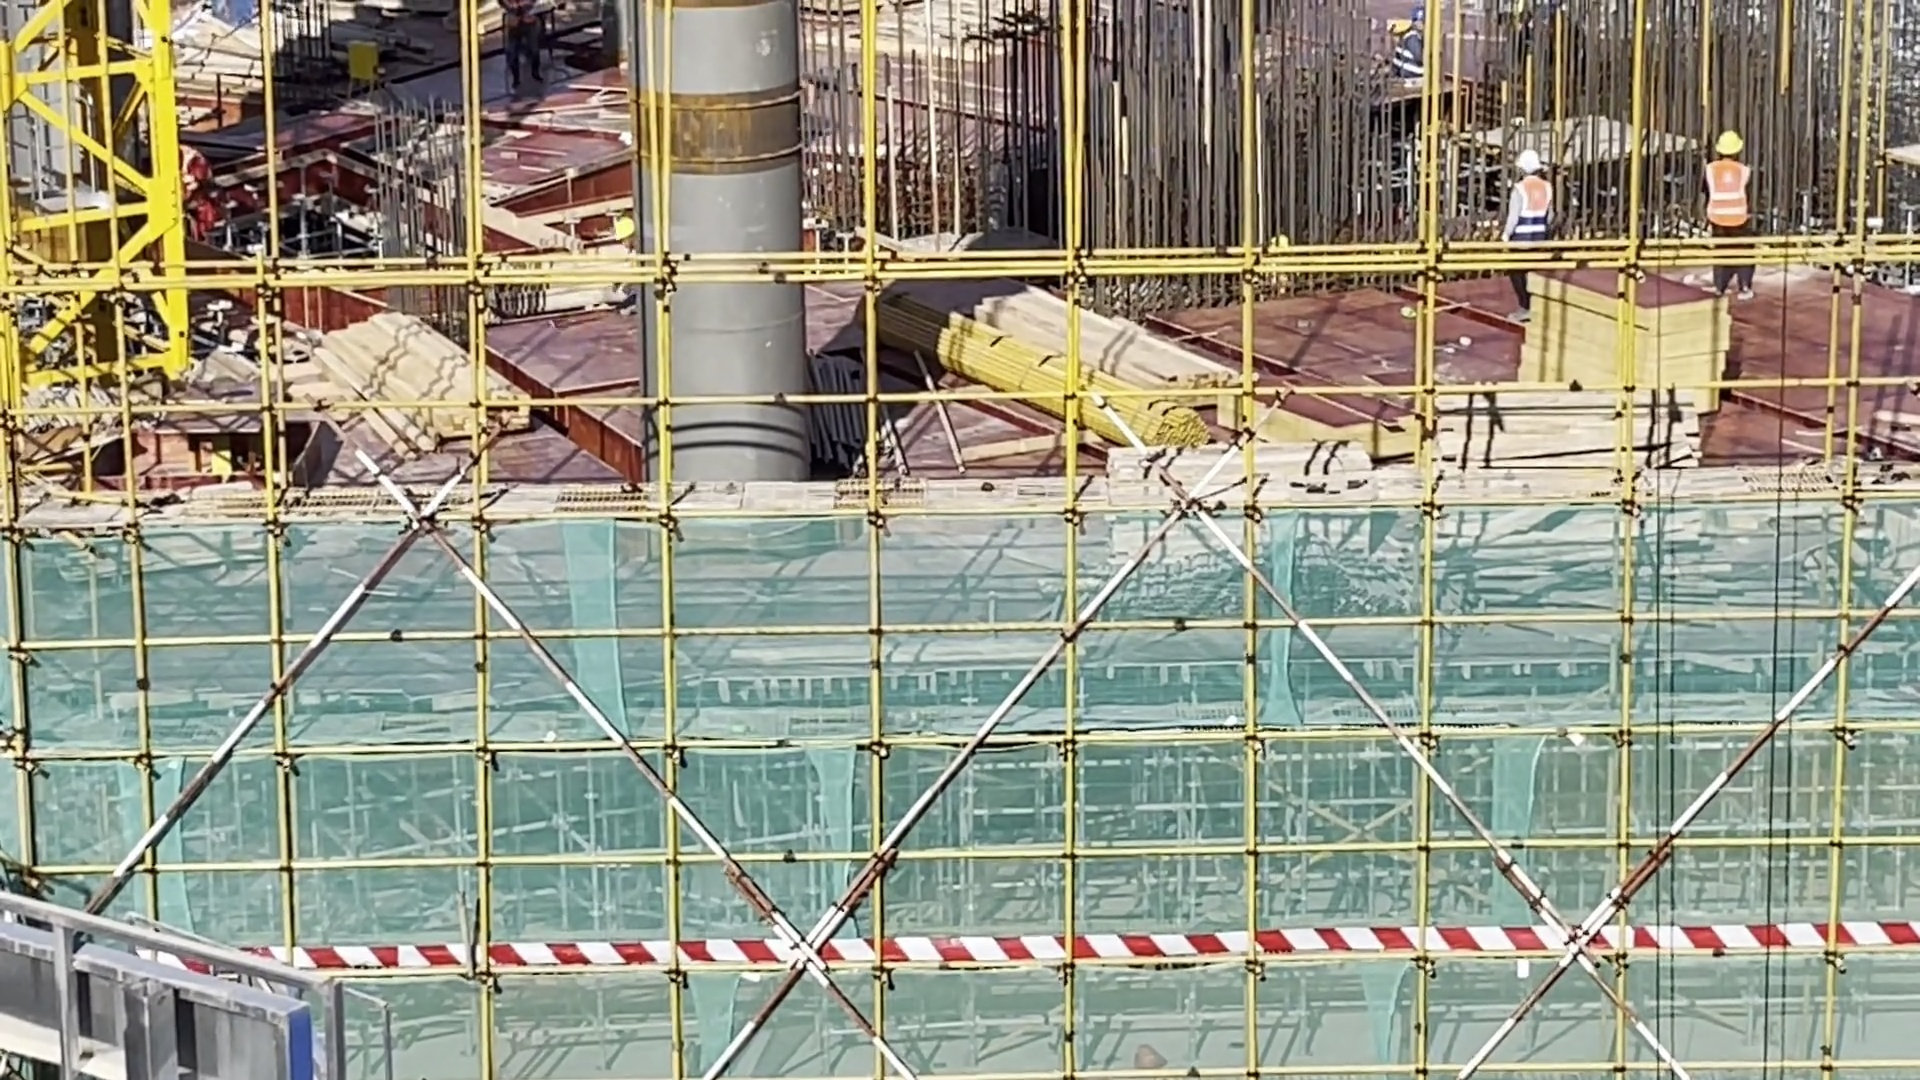helmet: (1409, 4, 1438, 36), (1714, 129, 1741, 151), (1519, 146, 1541, 172), (508, 1, 527, 26), (613, 218, 629, 239), (1523, 1, 1535, 18)
person: (1698, 123, 1768, 276), (1513, 141, 1576, 298), (181, 140, 253, 240), (604, 196, 651, 335), (497, 1, 559, 93), (1366, 26, 1459, 78), (1503, 1, 1583, 60)
vest: (1543, 4, 1589, 76), (1508, 182, 1566, 231), (1688, 171, 1743, 222), (184, 149, 221, 197), (1394, 42, 1429, 81), (633, 239, 651, 306)
